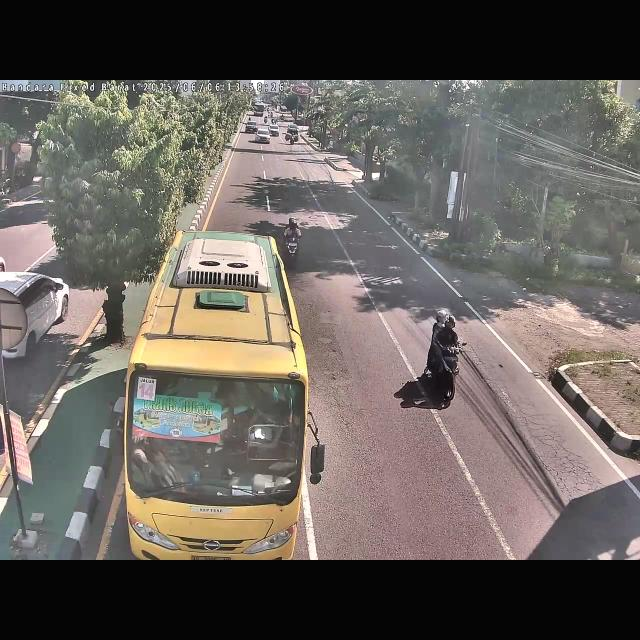Bis: (116, 226, 312, 560)
Motor: (425, 302, 463, 406), (279, 214, 305, 270)
